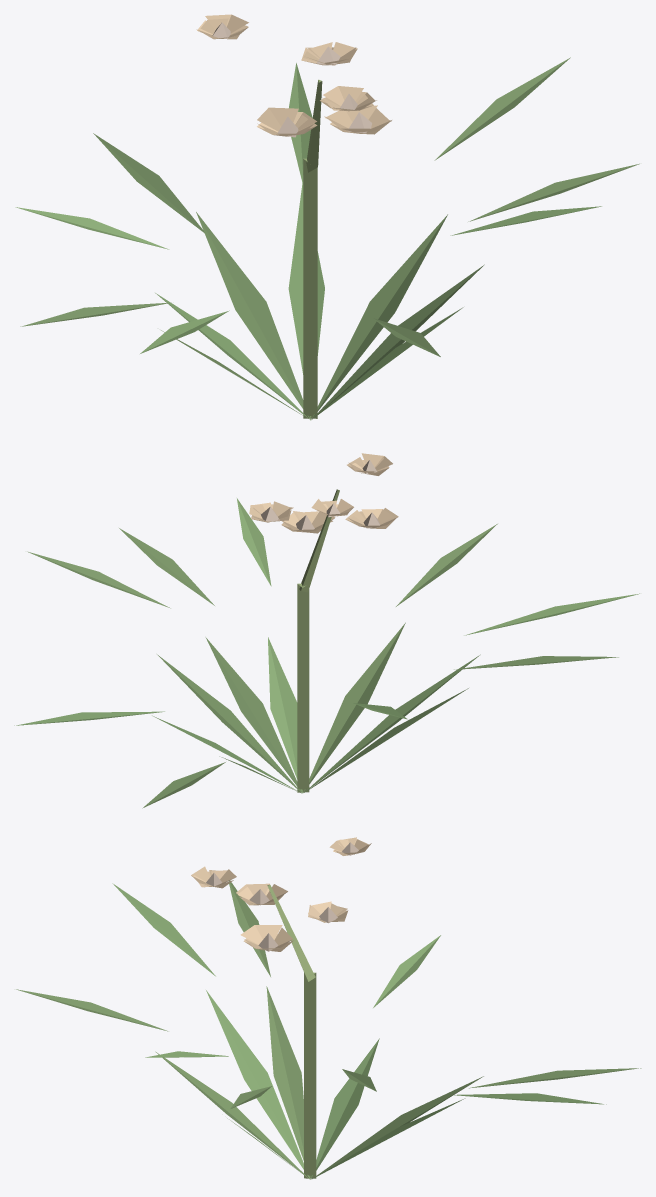
Rendered from hua.lan__bloom.glb.
The picture shows the model from 3 angles, top to bottom: view 1: azimuth 30°, elevation 25°; view 2: azimuth 150°, elevation 25°; view 3: azimuth 270°, elevation 25°; orthographic projection. The views are drawn at different scales.
Visible parts, largest first — view 1: hua.lan__bloom; view 2: hua.lan__bloom; view 3: hua.lan__bloom.
Part boxes in pixels (x1,y1,x2,y2): hua.lan__bloom: [15, 14, 639, 420]; hua.lan__bloom: [14, 453, 639, 808]; hua.lan__bloom: [16, 837, 641, 1179].
Size of the model in its own units: 1.35 by 0.7869 by 1.43.
